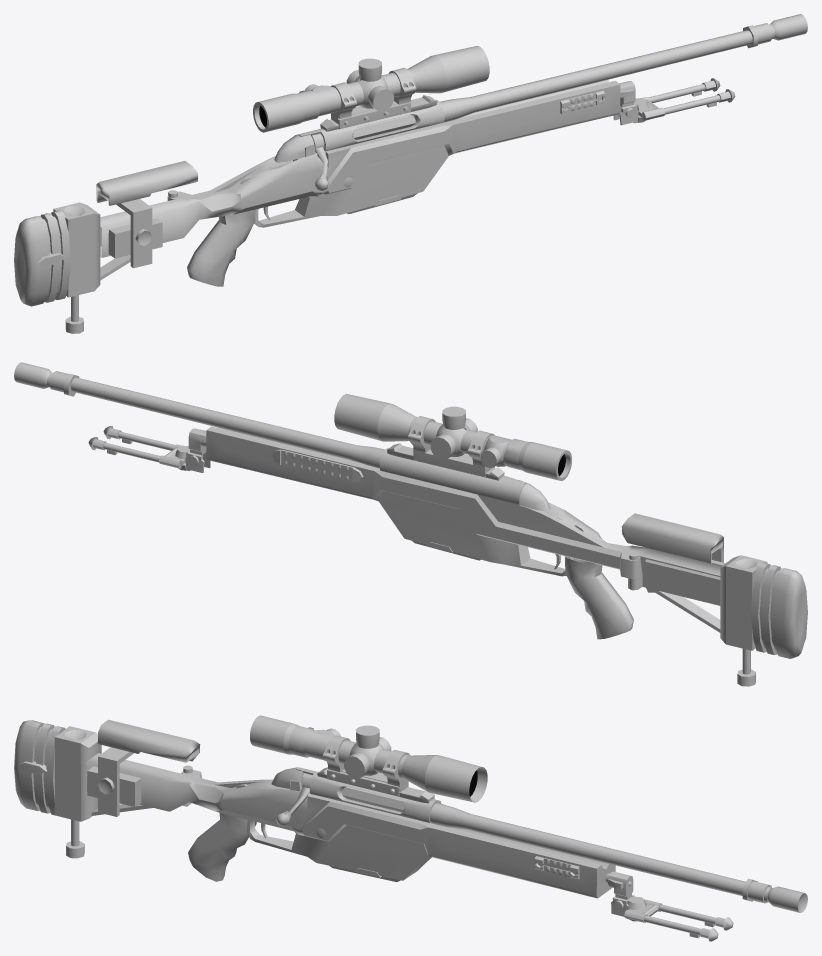
Rendered from w_snip_ssg08_dropped.FBX.
3 renders of one model, top to bottom at view 1: azimuth 30°, elevation 25°; view 2: azimuth 150°, elevation 25°; view 3: azimuth 330°, elevation 25°, orthographic.
Parts seen in each view (by area): view 1: w_snip_ssg08_dropped_w_snip_ssg08; view 2: w_snip_ssg08_dropped_w_snip_ssg08; view 3: w_snip_ssg08_dropped_w_snip_ssg08.
Part boxes in pixels (x1=…): w_snip_ssg08_dropped_w_snip_ssg08: x1=14, y1=14, x2=807, y2=333; w_snip_ssg08_dropped_w_snip_ssg08: x1=14, y1=362, x2=807, y2=686; w_snip_ssg08_dropped_w_snip_ssg08: x1=14, y1=715, x2=807, y2=941.
Bounding box in the file's own units: 53.36 × 12.82 × 4.11.
